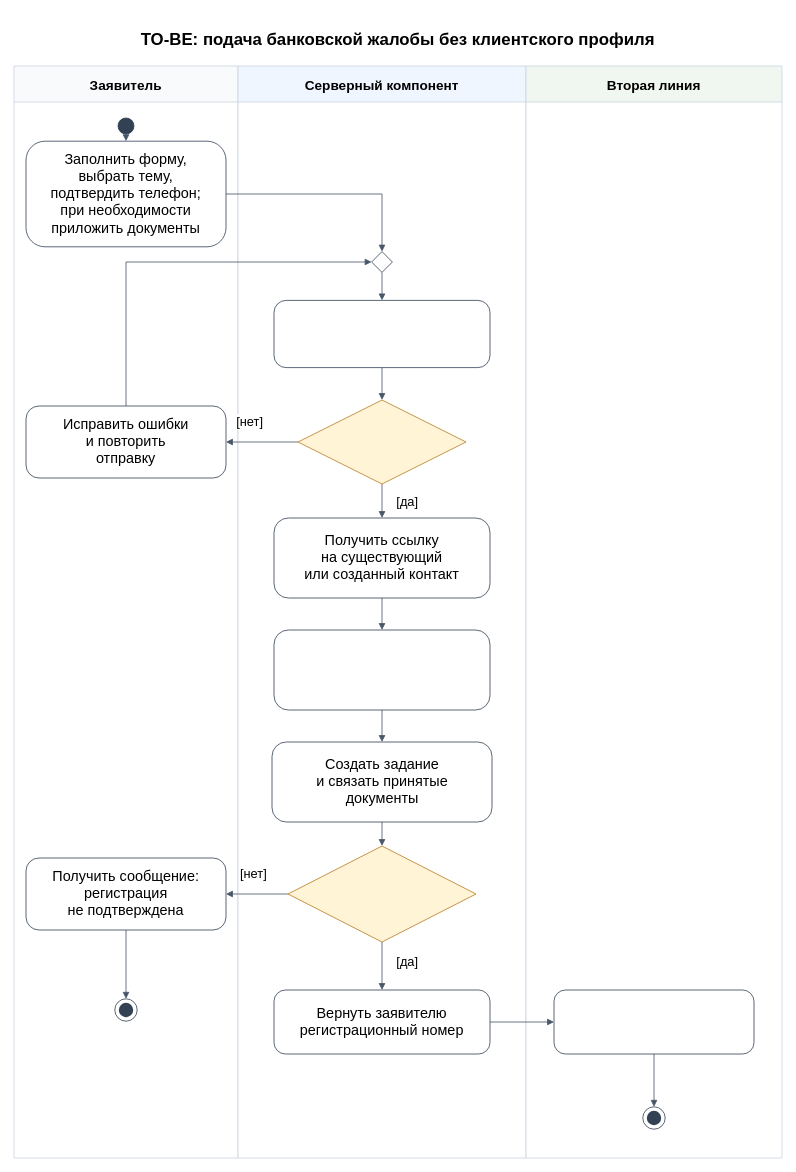
Some shapes in this 796 by 1172 pixel diagram are drawn without their labels. Each missing label, with the centre of its shape:
"Выбрать общий процесс банковских жалоб физических лиц" goes at [381,669].
"Запрос допустим?" goes at [381,441].
"Обязательные операции завершены?" goes at [381,893].
"Получить задание на рассмотрение" goes at [653,1021].
"Проверить сессию, поля, классификацию и документы" goes at [381,334].
